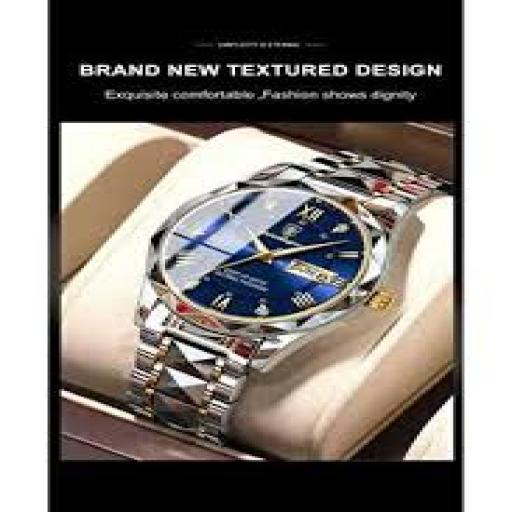KolSaati: (102, 122, 454, 455)
